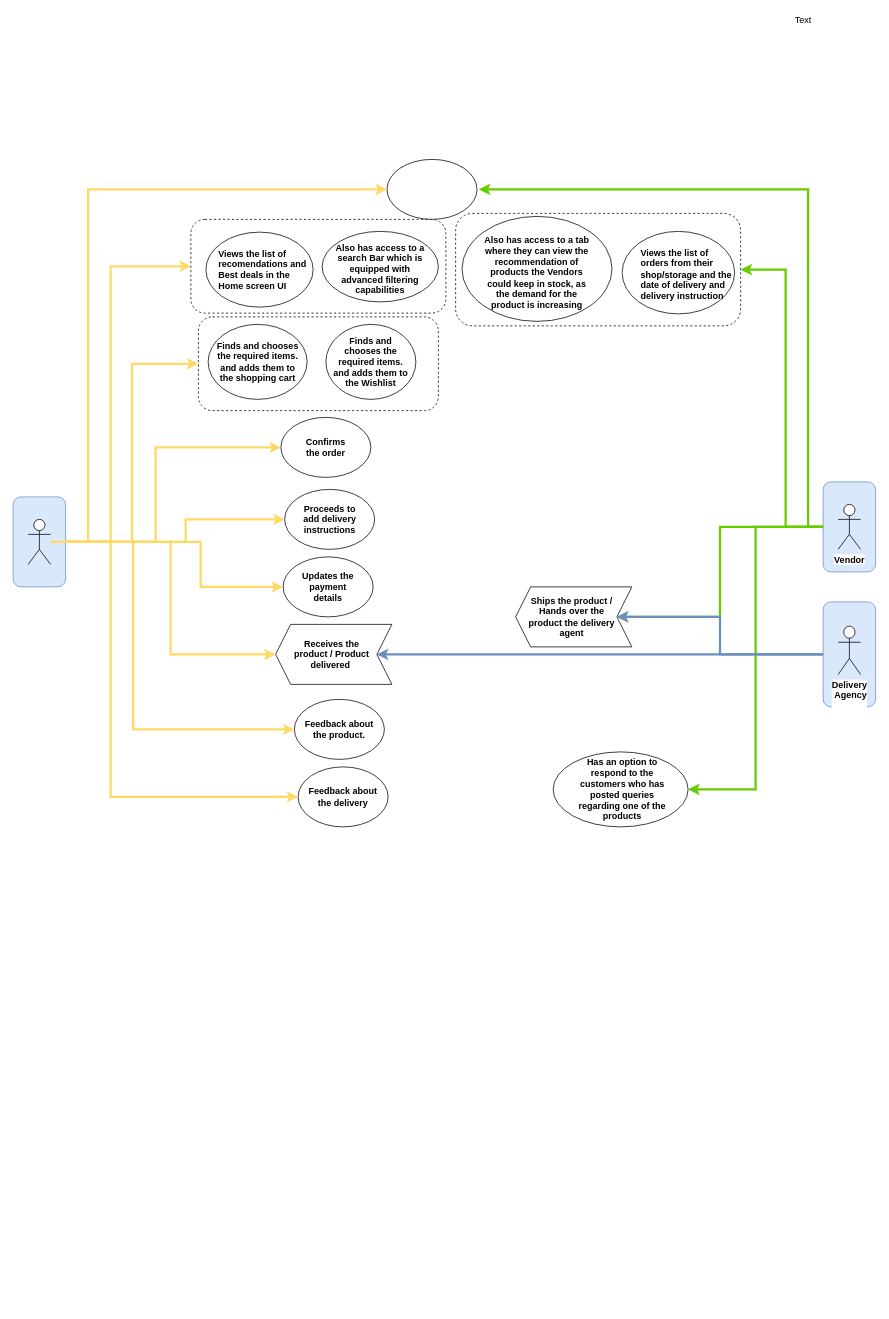
This 889x1319 diagram has some shape labels left out. Here are the shapes that lost their labels. From the top down, the centre of each, then its label:
At (x=431, y=189): "Login/Sign up".
At (x=39, y=541): "Customer".
